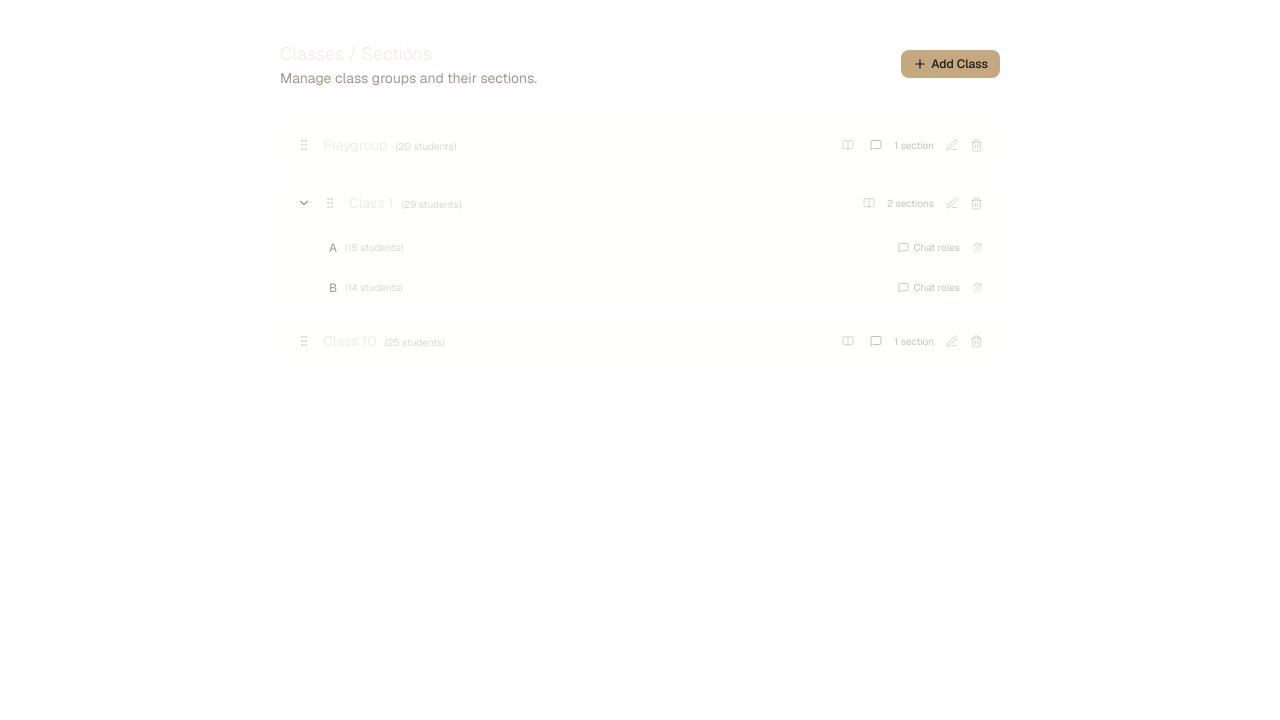
it: ClassesPage — add class modal › shows sections section when toggled on
Click the button "Add Class". click: (951, 64)
box: [901,50,1000,78]
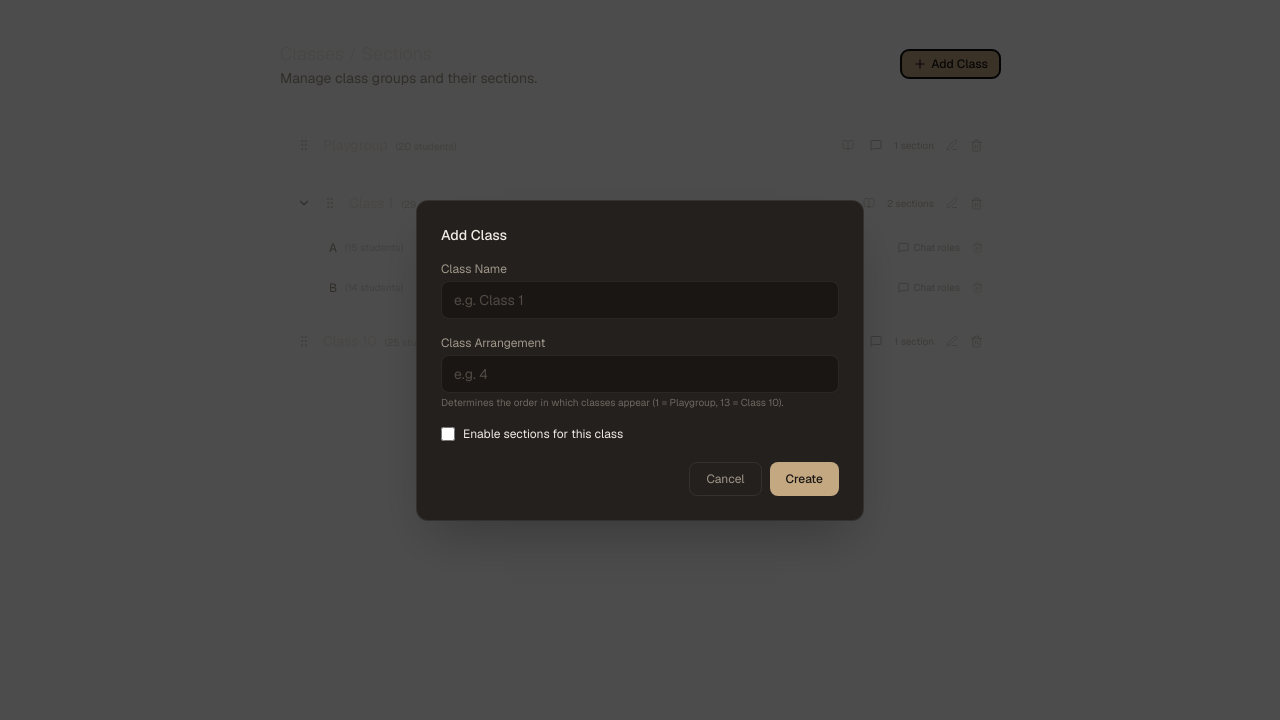
Click the checkbox labelled "Enable sections for this class". click: (448, 434)
box: [441,426,455,440]
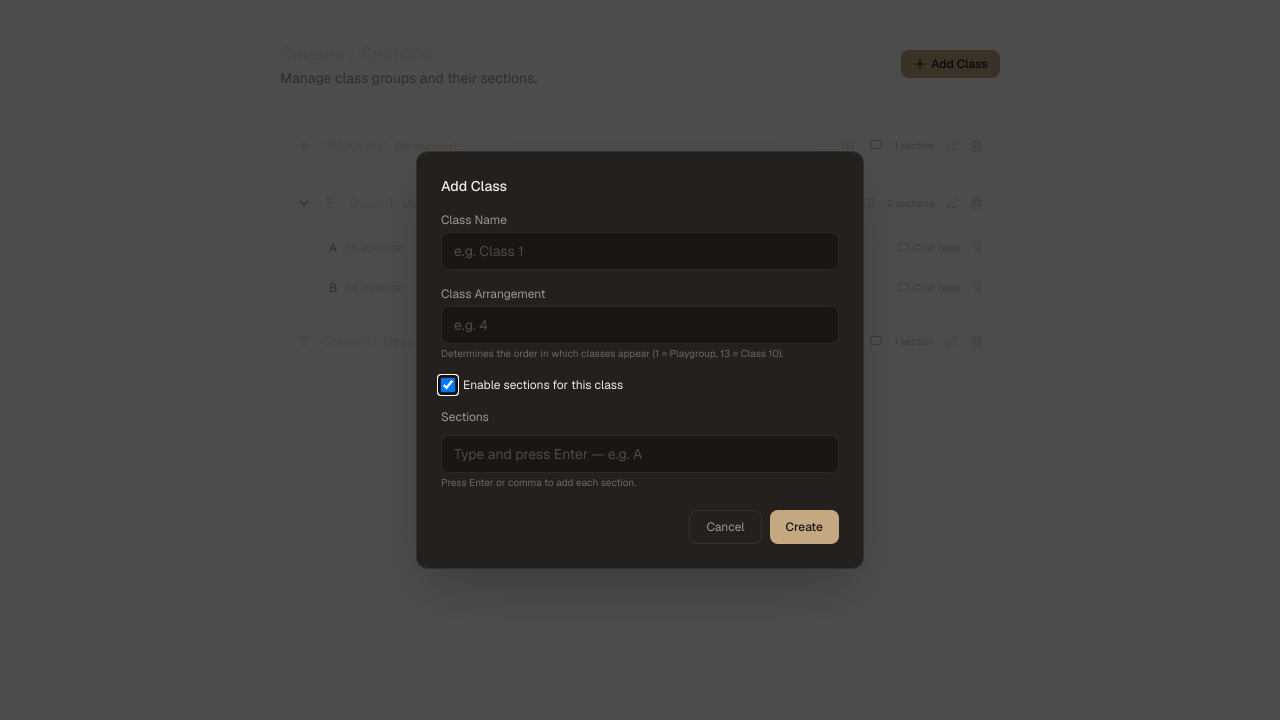
Expected: the field with placeholder "Type and press Enter — e.g. A" is shown, [441,435,839,473]
